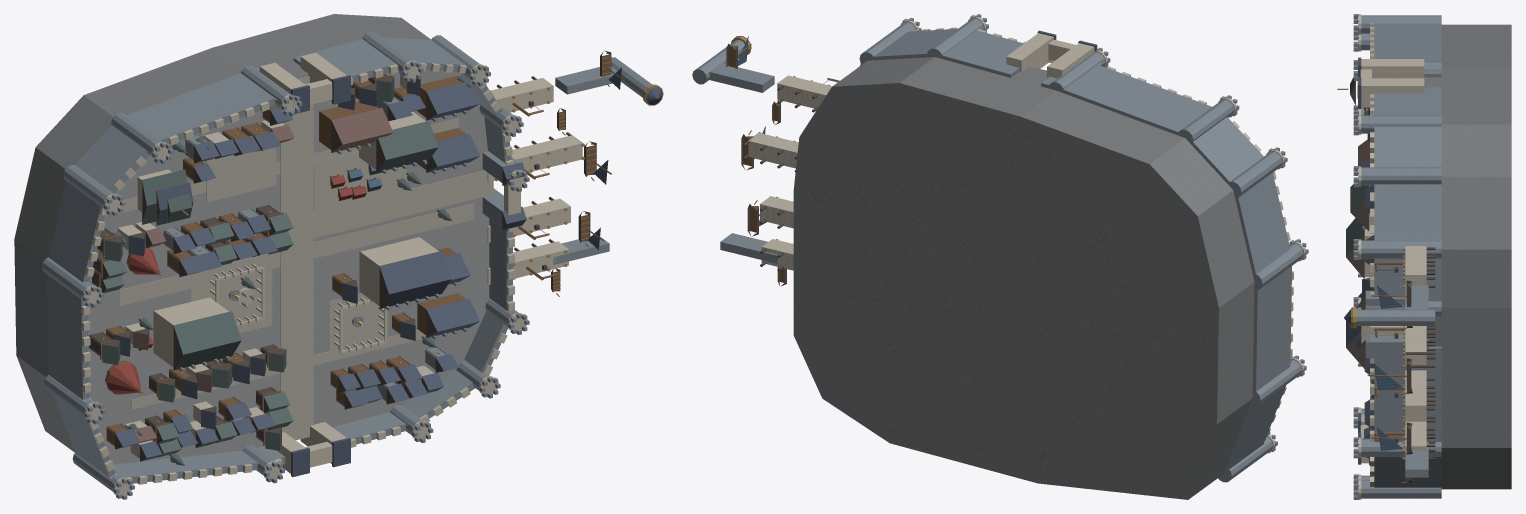
Rendered from Jeruma_v1_MapLibre_Textured.glb.
3 renders of one model, left to right at view 1: azimuth 30°, elevation 25°; view 2: azimuth 150°, elevation 25°; view 3: azimuth 270°, elevation 25°, orthographic.
Parts seen in each view (by area): view 1: Jeruma_ashlar, Jeruma_paving_gold, Jeruma_paving, Jeruma_civic, Jeruma_slate, Jeruma_bedrock, Jeruma_slate_green, Jeruma_darkwood, Jeruma_pine, Jeruma_slate_rust, Jeruma_fabric, Jeruma_bronze (+1 smaller); view 2: Jeruma_bedrock, Jeruma_ashlar, Jeruma_civic, Jeruma_darkwood, Jeruma_pine; view 3: Jeruma_bedrock, Jeruma_ashlar, Jeruma_civic, Jeruma_darkwood, Jeruma_slate, Jeruma_fabric_blue, Jeruma_slate_green, Jeruma_pine, Jeruma_bronze, Jeruma_slate_rust.
Boxes of the visible parts, x1,y1,x2,y2 form: Jeruma_ashlar: (42,31,651,499); Jeruma_paving_gold: (117,76,493,440); Jeruma_paving: (88,70,489,464); Jeruma_civic: (81,52,582,497); Jeruma_slate: (113,75,662,476); Jeruma_bedrock: (14,14,430,452); Jeruma_slate_green: (102,75,471,465); Jeruma_darkwood: (89,50,621,461); Jeruma_pine: (98,52,625,446); Jeruma_slate_rust: (133,108,393,443); Jeruma_fabric: (107,175,366,441); Jeruma_bronze: (100,56,663,457); Jeruma_bedrock: (793,57,1254,499); Jeruma_ashlar: (692,14,1308,482); Jeruma_civic: (748,16,1305,453); Jeruma_darkwood: (726,36,828,286); Jeruma_pine: (728,40,839,282); Jeruma_bedrock: (1424,24,1511,489); Jeruma_ashlar: (1353,14,1441,499); Jeruma_civic: (1357,14,1426,499); Jeruma_darkwood: (1346,84,1435,482); Jeruma_slate: (1344,57,1374,464); Jeruma_fabric_blue: (1375,286,1402,450); Jeruma_slate_green: (1346,77,1374,383); Jeruma_pine: (1367,262,1406,483); Jeruma_bronze: (1337,81,1406,479); Jeruma_slate_rust: (1358,139,1374,290).
Bounding box in the file's own units: 300 × 192 × 79.9.
Materials: 15 (15 with a texture image).
